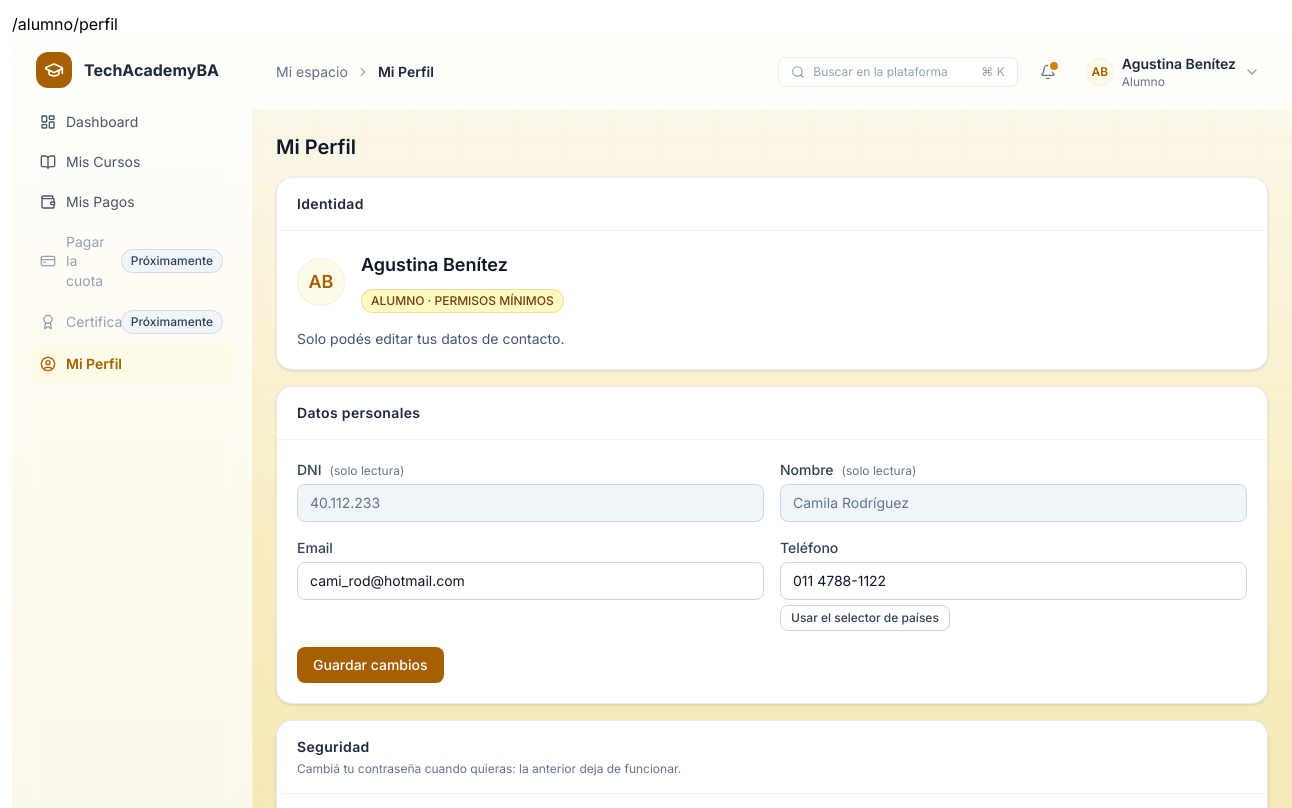
Test case: datos personales › informa el conflicto cuando el email ya es de otra cuenta y conserva lo anterior
Expected: the heading "Mi Perfil" is shown, [276, 135, 356, 159]
Replace the text in the field labelled "Email" with "juan.perez@gmail.com" at (530, 581), box [297, 562, 764, 600]
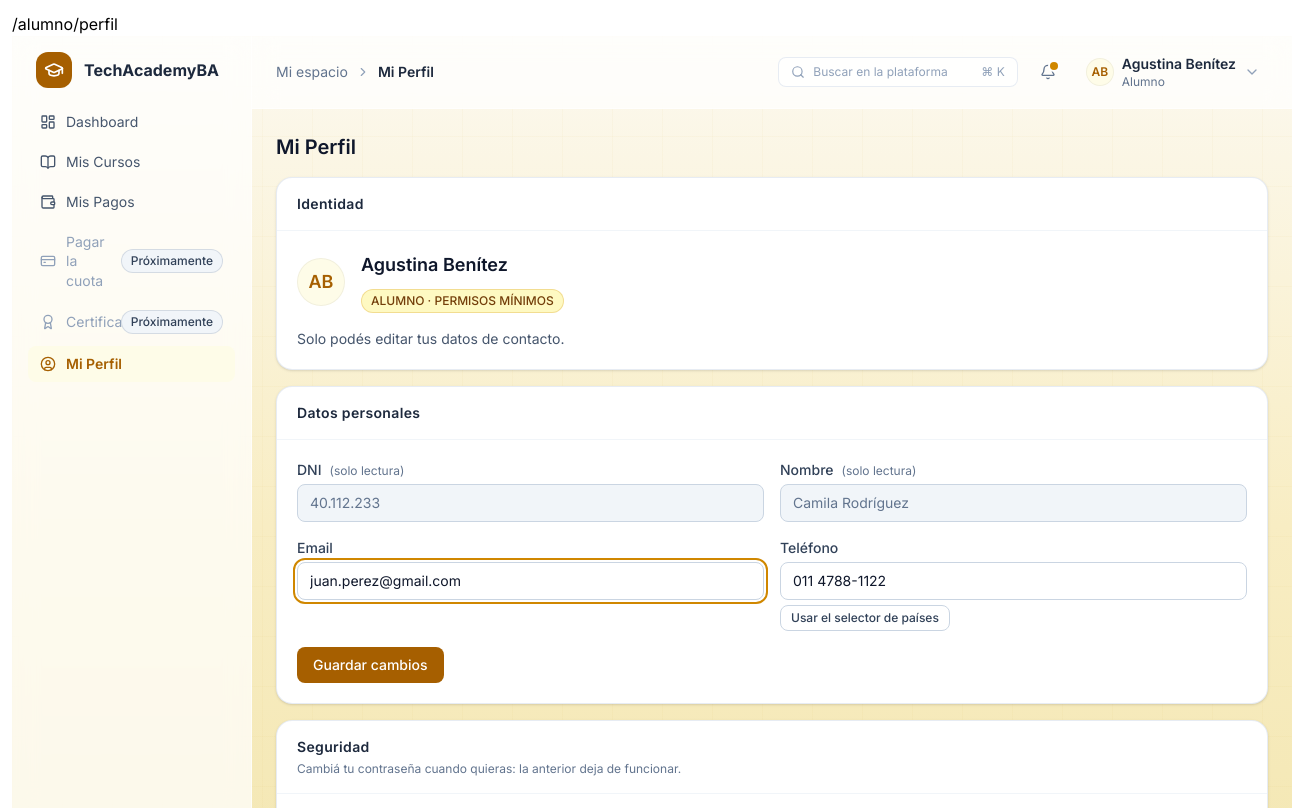
Clear the field labelled "Teléfono" at (1014, 581), box [780, 562, 1247, 600]
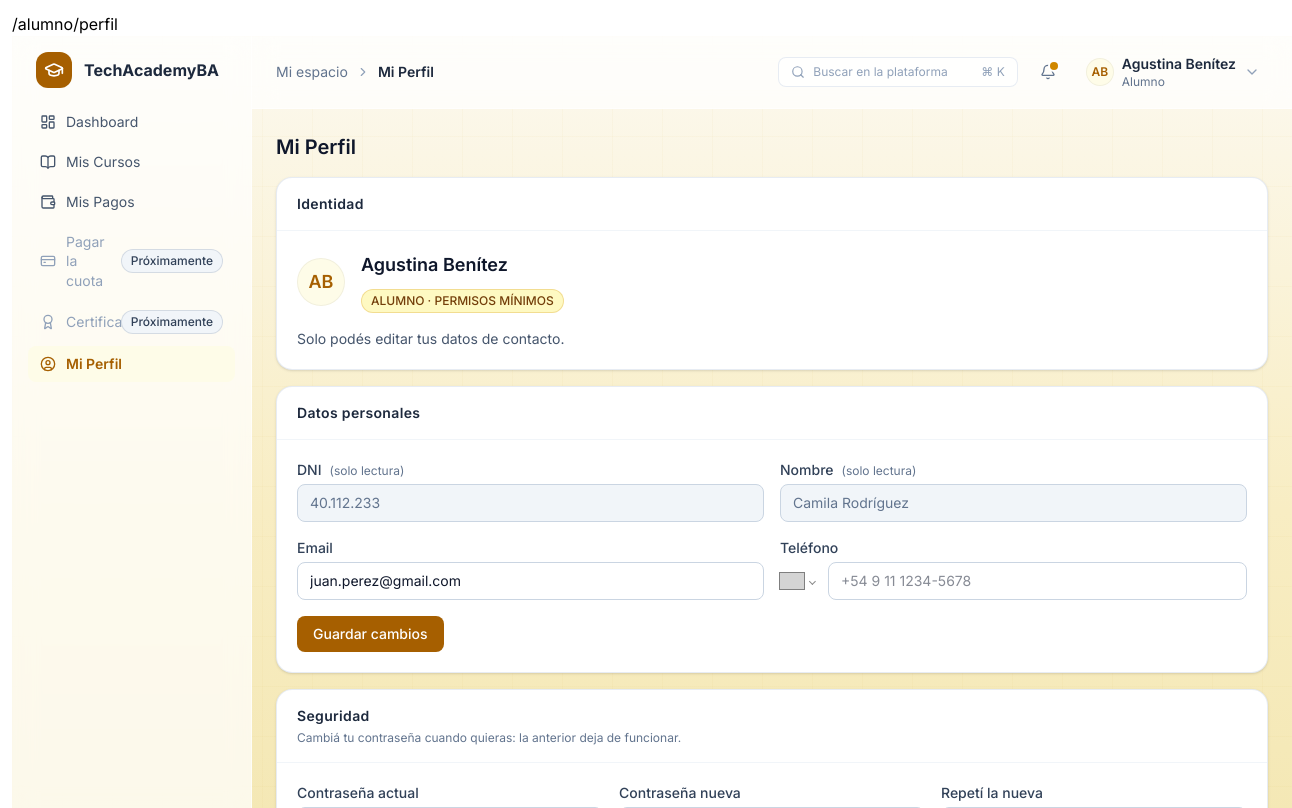
Click the button "Guardar cambios".
click(370, 634)  # box [297, 616, 444, 652]
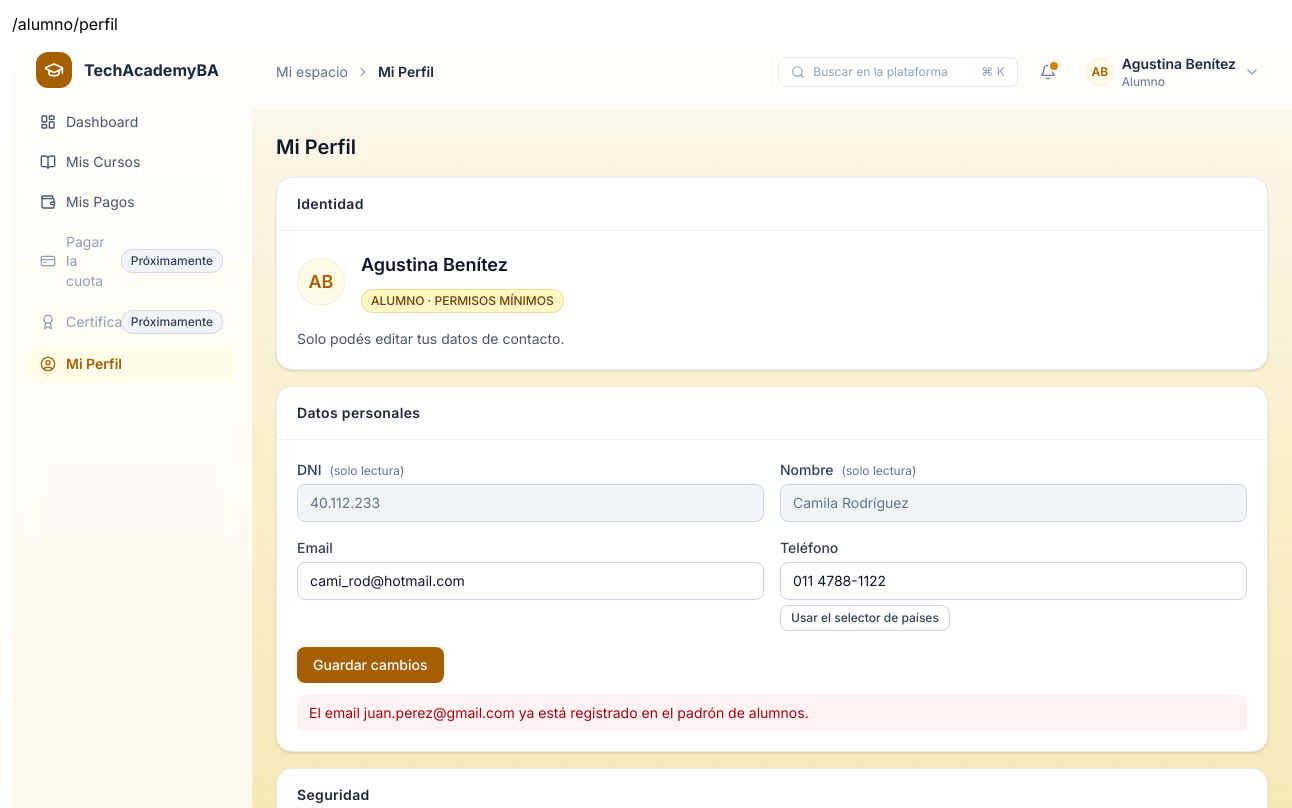
Result: the message shows "ya está registrado" at [309, 704, 809, 721]
Result: the field labelled "Email" holds "cami_rod@hotmail.com" at [297, 562, 764, 600]
